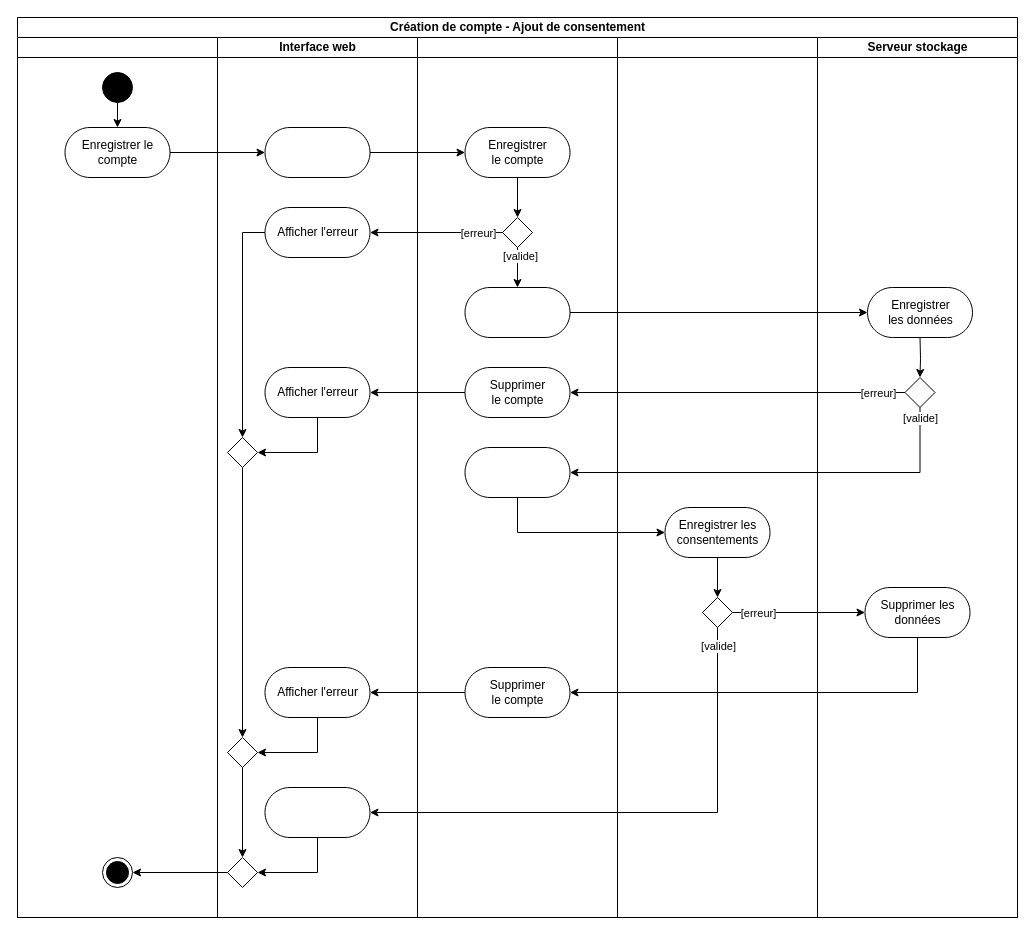
Some shapes in this 1035 by 935 pixel diagram are drawn without their labels. The box of each missing label's shape, as (x1, y1, x2, y2) in pixels:
Afficher la page de compte: (264, 786, 370, 838)
Client: (16, 36, 218, 918)
Contrat intelligent: (616, 36, 818, 918)
Serveur backend: (416, 36, 618, 918)
Transmettre les consentements: (464, 446, 570, 498)
Transmettre les données des consentements: (464, 286, 570, 338)
Transmettre les informations du compte: (264, 126, 370, 178)
